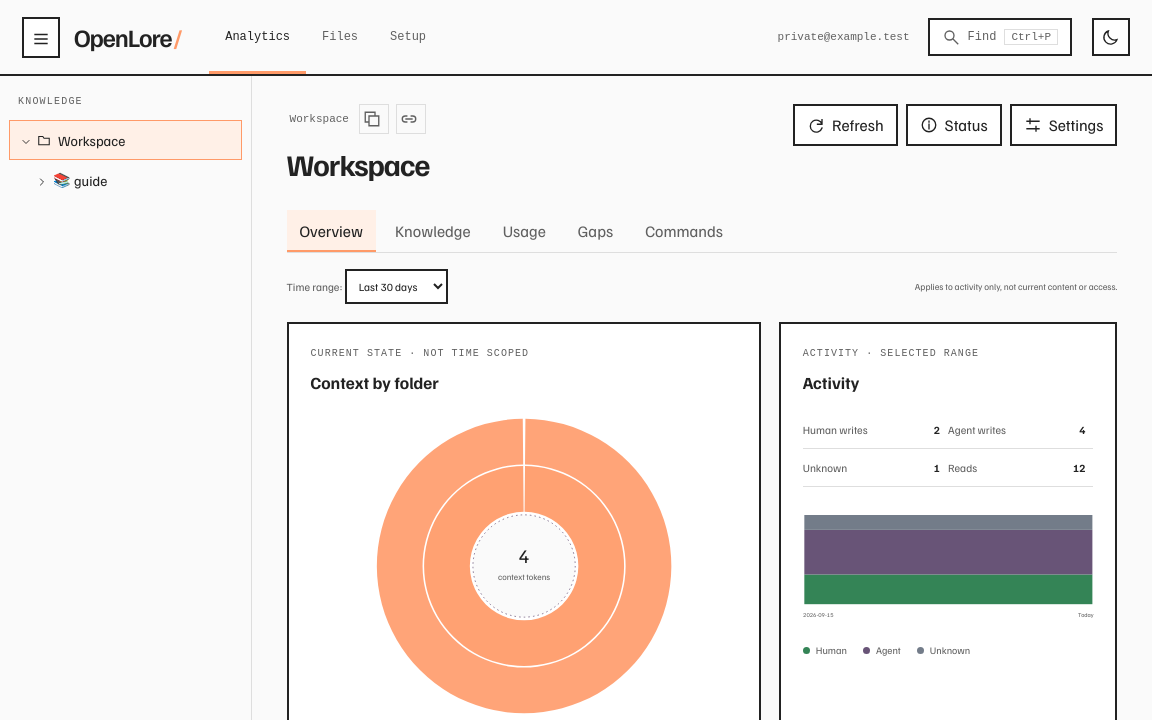
analytics status shows how far activity history is processed
The image size is (1152, 720).
Click the button with aria-label "Analytics status". click: (954, 125)
box: [906,104,1002,146]
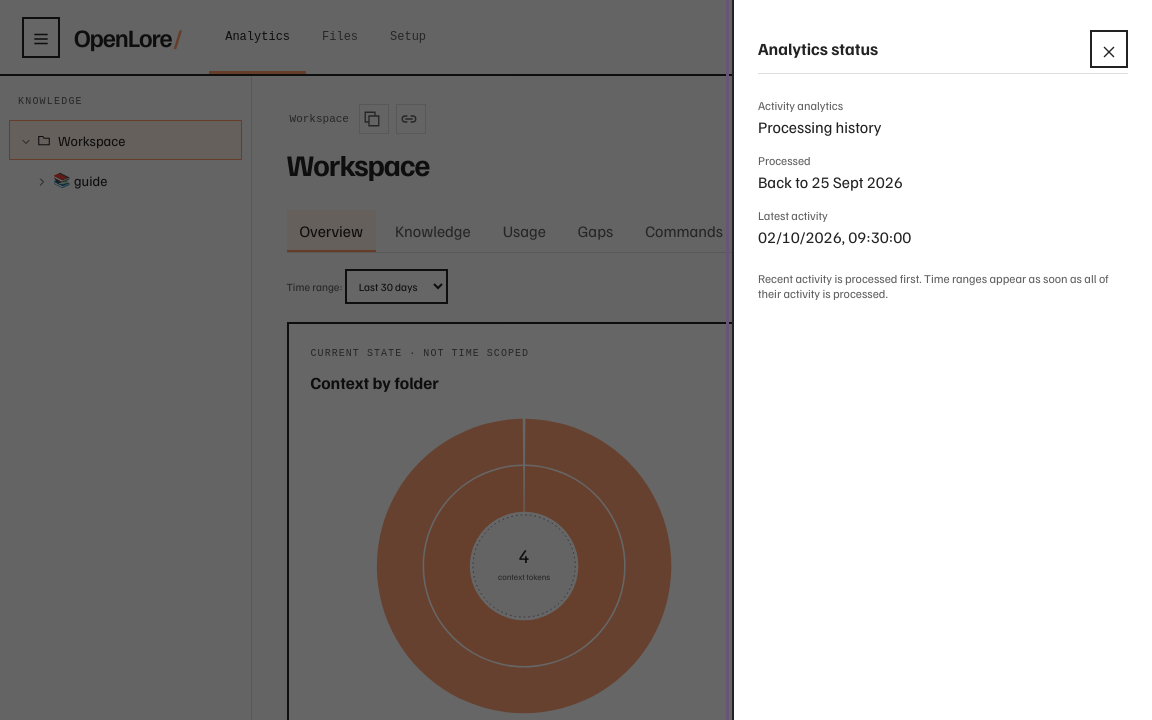
Expected: the text "Processing history" is shown, [758,117,882,137]
Expected: the text "Back to 25 Sept 2026" is shown, [758,172,903,192]
